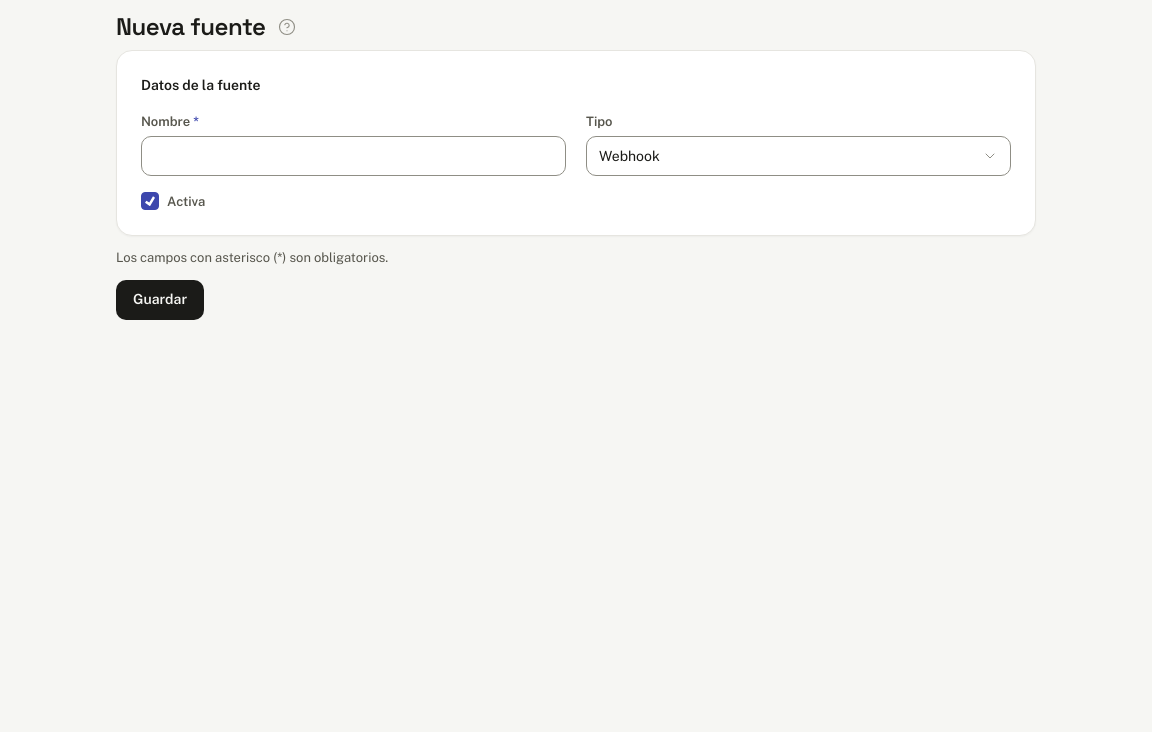
Scenario: SourceFormPage — creación › se puede quitar una fila del mapeo
Click the dropdown labelled "Tipo" at point(798, 156), box [586,136,1011,176]
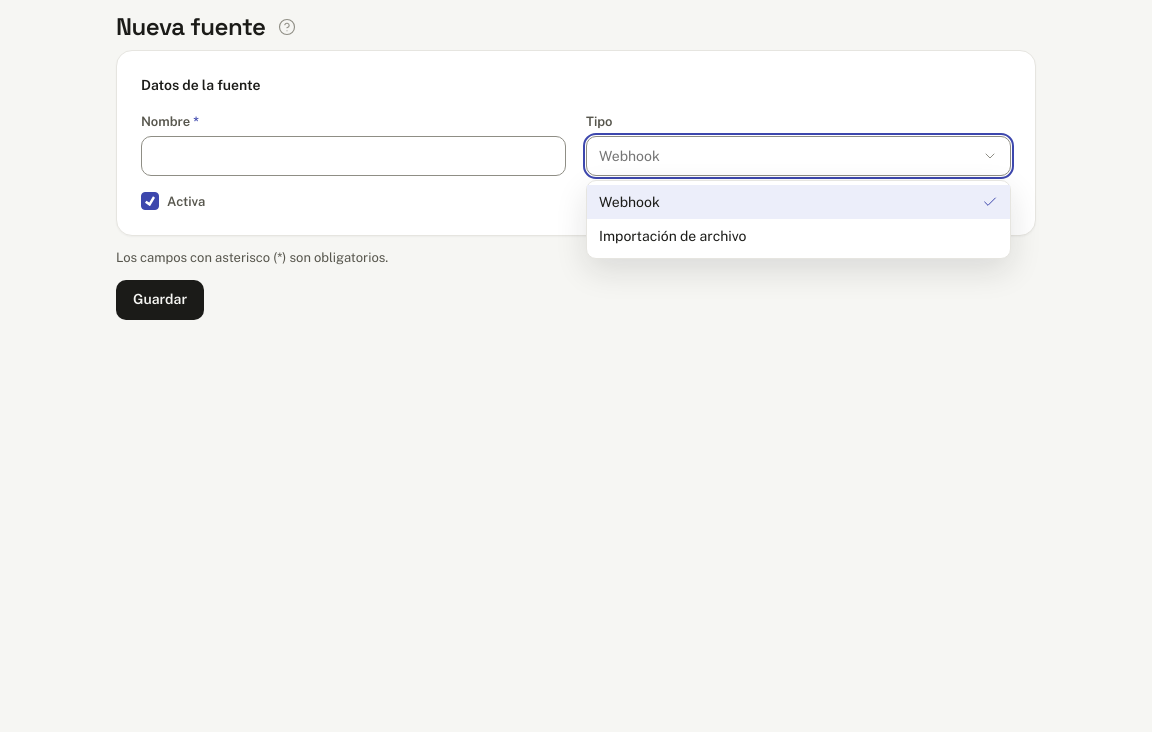
Click the option "Importación de archivo" at point(673, 236), box [599,228,746,244]
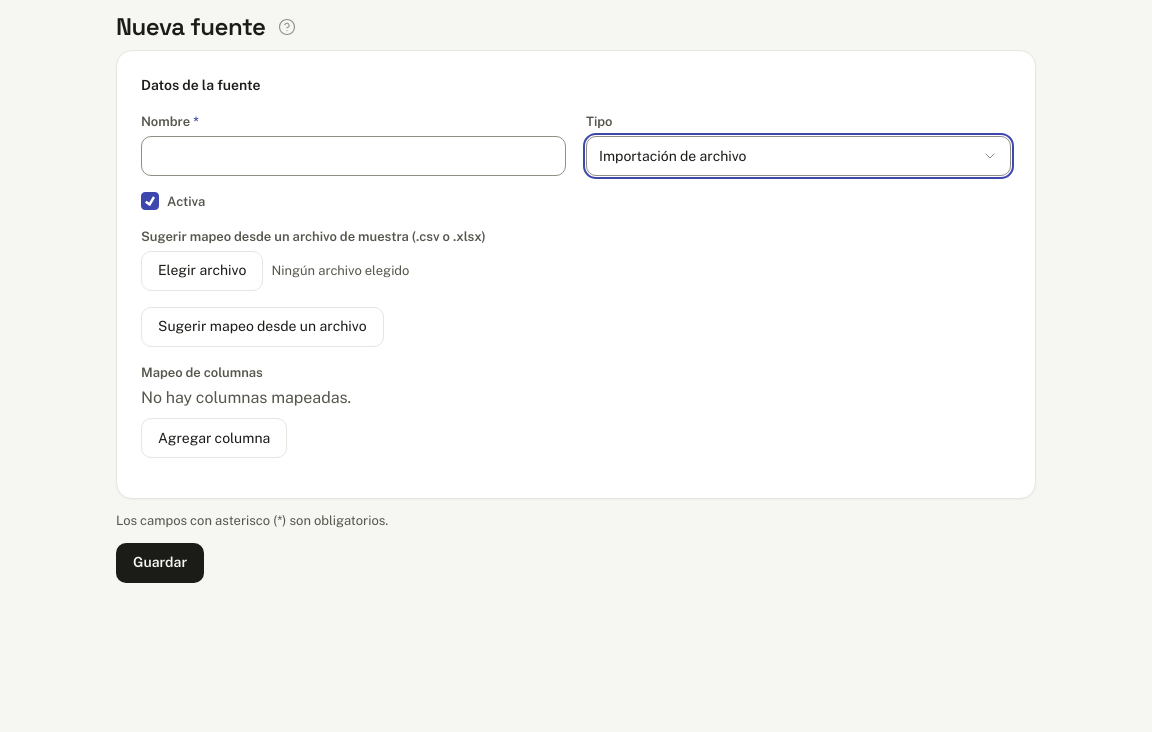
Click the button "Agregar columna" at point(214, 438), box [141,418,287,458]
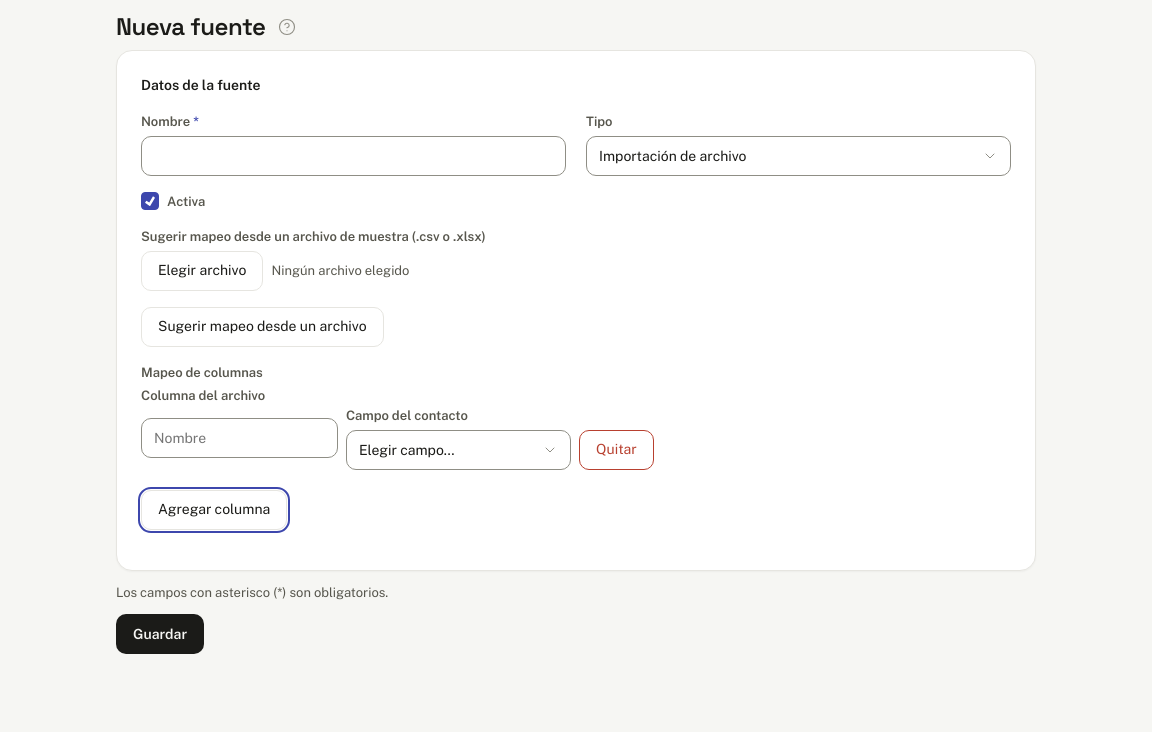
Expected: the number of fields labelled "Columna del archivo" is 1, [141,418,338,458]
Click the button with aria-label "Quitar la fila 1 del mapeo" at point(616, 450), box [579,430,654,470]
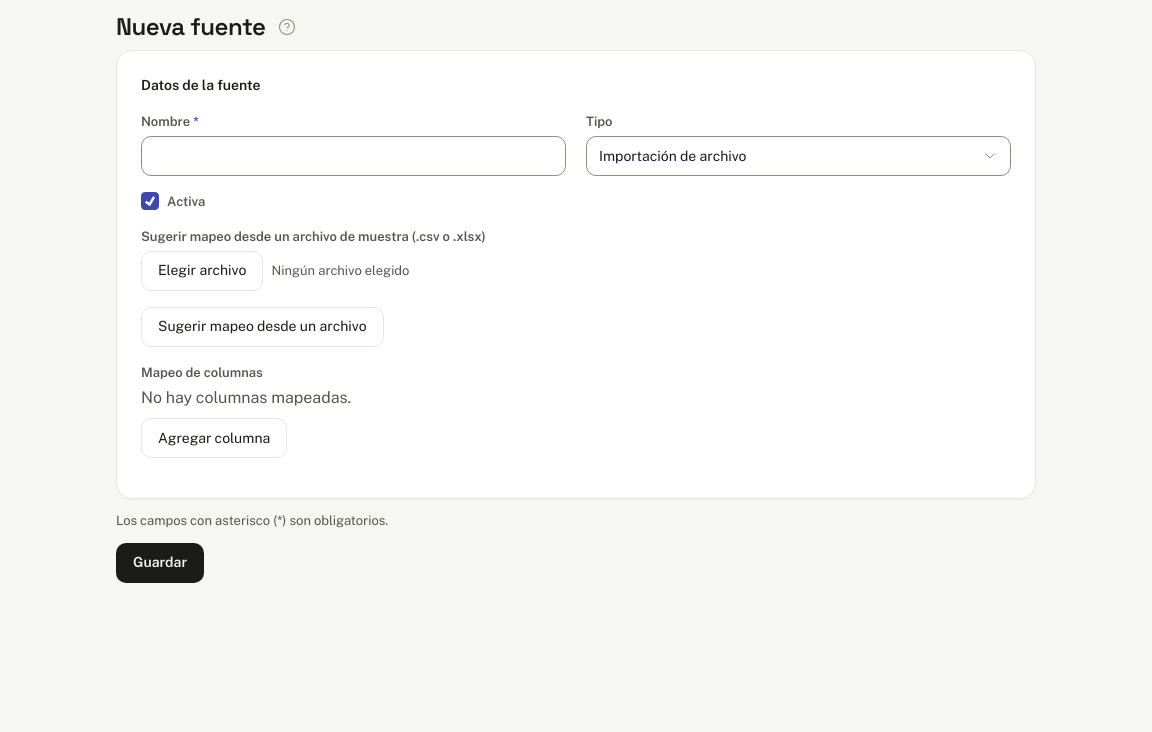
Expected: the text labelled "Columna del archivo" is gone
Expected: the text "No hay columnas mapeadas." is shown, [141,388,351,407]
